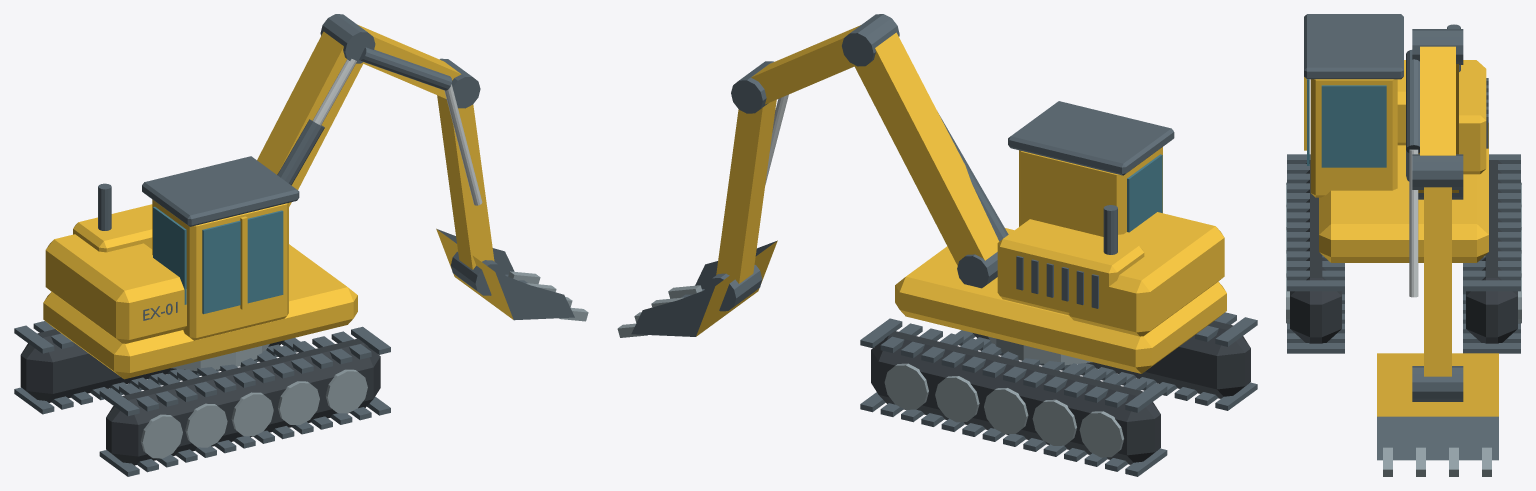
Rendered from Excavator.fbx.
3 views of the same model, side by side, from view 1: azimuth 30°, elevation 25°; view 2: azimuth 150°, elevation 25°; view 3: azimuth 270°, elevation 25° (orthographic). The views are drawn at different scales.
Visible parts, largest first — view 1: Upper Chassis, Rear Counterweight, Track Assembly, Cabin Roof, Cabin Side Glass, Main Boom, Cabin Frame, Dipper Arm, Track Assembly.001, Engine Cover, Bucket Side, Cabin Rear Glass (+17 smaller); view 2: Upper Chassis, Main Boom, Track Assembly.001, Rear Counterweight, Engine Cover, Cabin Roof, Cabin Frame, Dipper Arm, Track Assembly, Boom Elbow, Bucket Side.001, Cabin Rear Glass (+13 smaller); view 3: Upper Chassis, Cabin Roof, Bucket Back, Cabin Front Glass, Dipper Arm, Bucket Floor, Cabin Frame, Boom Elbow, Track Assembly.001, Track Assembly, Engine Cover, Arm Pivot.002 (+22 smaller).
Boxes of the visible parts, x1,y1,x2,y2 form: Upper Chassis: (43, 244, 357, 379); Rear Counterweight: (45, 234, 186, 343); Track Assembly: (106, 338, 380, 465); Cabin Roof: (142, 156, 299, 226); Cabin Side Glass: (202, 210, 283, 314); Main Boom: (257, 31, 363, 206); Cabin Frame: (152, 199, 288, 340); Dipper Arm: (437, 95, 494, 269); Track Assembly.001: (20, 329, 284, 402); Engine Cover: (73, 204, 152, 252); Bucket Side: (495, 272, 574, 320); Cabin Rear Glass: (153, 206, 186, 304); Upper Chassis: (895, 228, 1226, 373); Main Boom: (853, 32, 999, 265); Track Assembly.001: (871, 331, 1160, 464); Rear Counterweight: (1068, 212, 1224, 336); Engine Cover: (997, 219, 1144, 322); Cabin Roof: (1008, 101, 1174, 175); Cabin Frame: (1019, 147, 1162, 236); Dipper Arm: (716, 100, 776, 283); Track Assembly: (973, 321, 1250, 398); Boom Elbow: (751, 25, 860, 104); Bucket Side.001: (631, 286, 714, 336); Cabin Rear Glass: (1127, 154, 1162, 232); Upper Chassis: (1319, 123, 1488, 262); Cabin Roof: (1304, 14, 1403, 79); Bucket Back: (1377, 353, 1498, 416); Cabin Front Glass: (1321, 85, 1386, 167); Dipper Arm: (1424, 187, 1451, 376); Bucket Floor: (1377, 416, 1498, 460); Cabin Frame: (1310, 79, 1397, 197); Boom Elbow: (1420, 46, 1455, 155); Track Assembly.001: (1466, 160, 1517, 343); Track Assembly: (1290, 160, 1341, 343); Engine Cover: (1459, 63, 1486, 174); Arm Pivot.002: (1412, 154, 1463, 189).
Size of the model in its own units: 610 by 376 by 236.
